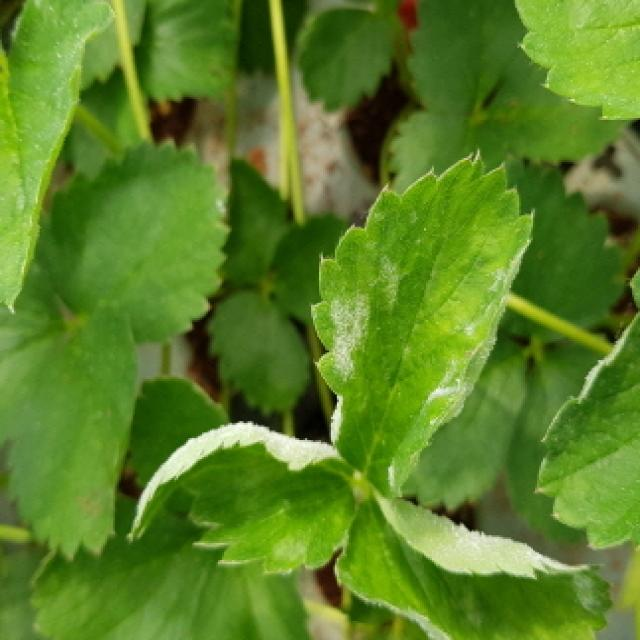Powdery Mildew Leaf: (309, 151, 536, 497), (336, 484, 618, 640), (126, 420, 365, 576), (533, 265, 640, 555)
